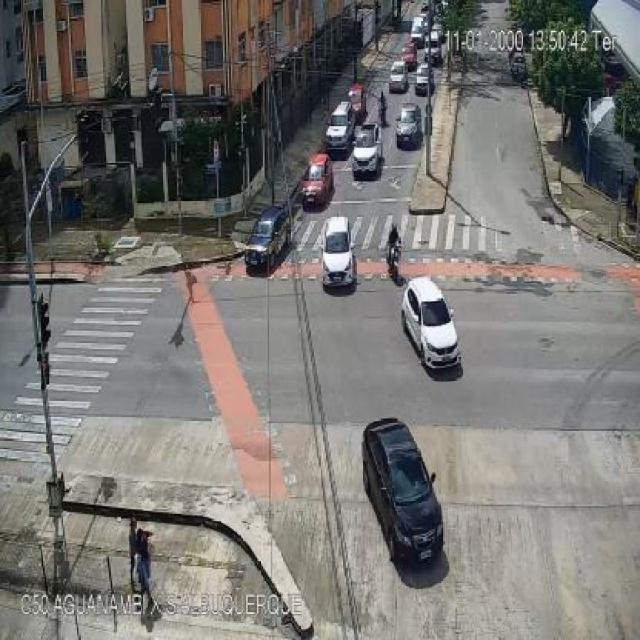Car: (357, 418, 448, 569), (404, 271, 458, 369), (239, 209, 291, 273), (320, 216, 360, 289), (299, 151, 338, 205), (351, 126, 384, 178), (325, 102, 358, 150), (395, 103, 423, 149), (389, 60, 408, 91)
Cycle: (386, 242, 402, 282), (378, 103, 388, 125)
